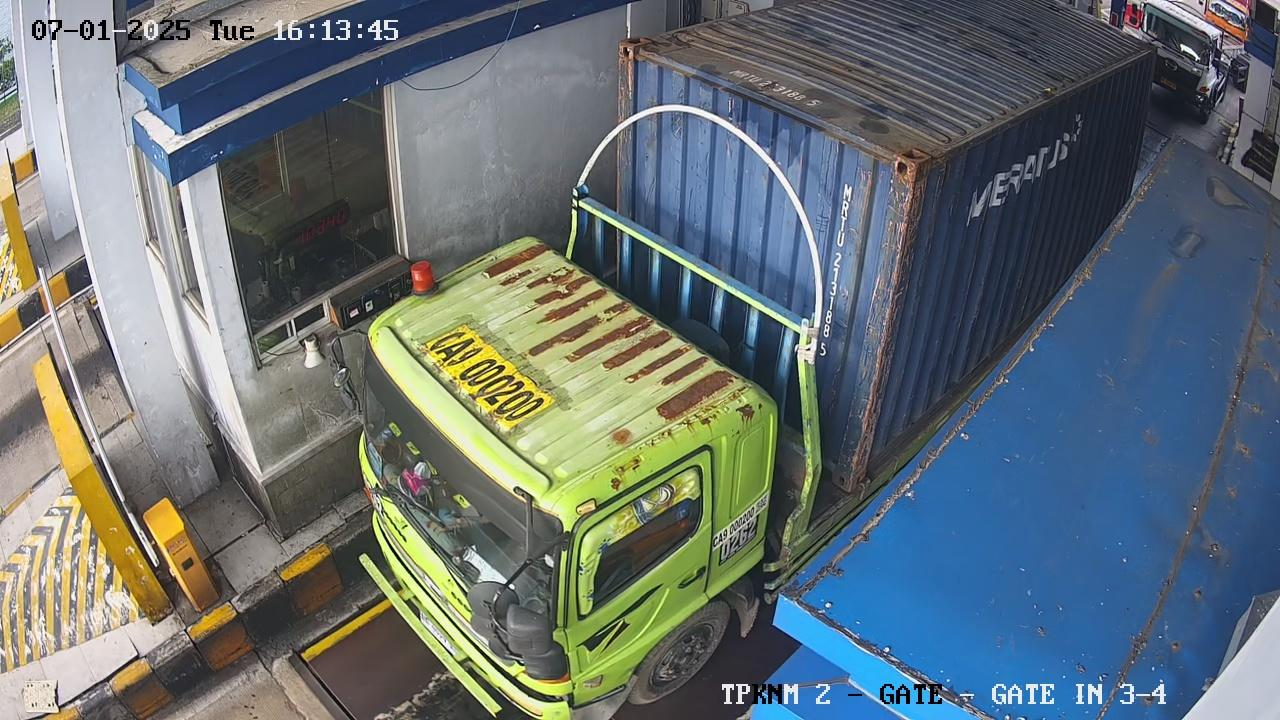Container_ID: (710, 59, 838, 117)
Container_ID_Vertikal: (803, 170, 867, 373)
truck_id: (423, 324, 555, 433), (709, 495, 768, 554)
